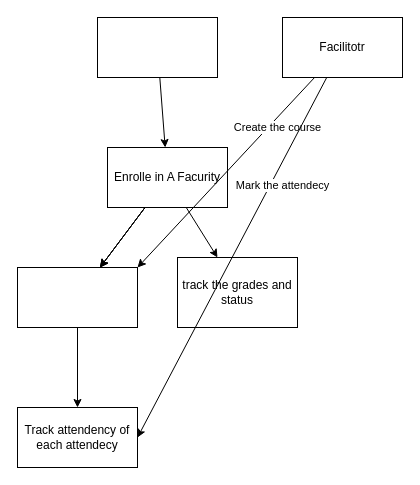
Some shapes in this 420 by 485 pixel diagram are drawn without their labels. The centre of each missing label's shape, as x and y in pixels:
"Get ap to 5 course" belongs at (x=77, y=297).
"STUDENT" belongs at (x=157, y=47).
